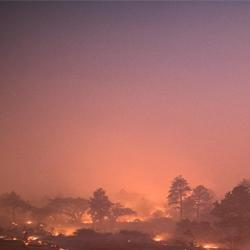fire: (54, 228, 77, 237), (25, 233, 41, 244), (156, 234, 168, 243)
